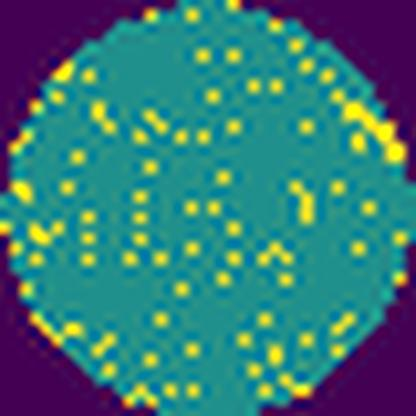Loc: (342, 101, 402, 157)
